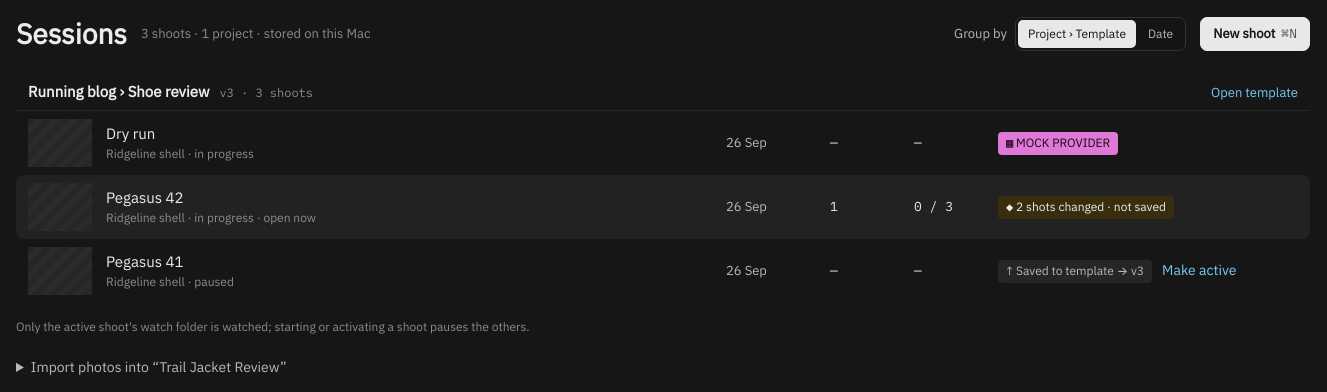
it: SessionsTab › groups shoots by project › template, tags how each shot list relates to it, and opens one
Expected: the element "Running blog › Shoe review" shows "v3 · 3 shoots", [219,85,313,100]
Expected: the element "Running blog › Shoe review" shows "2 shots changed · not saved", [1016,199,1166,214]
Click the button "Open template" at coordinates (1254, 93), box [1211,84,1298,102]
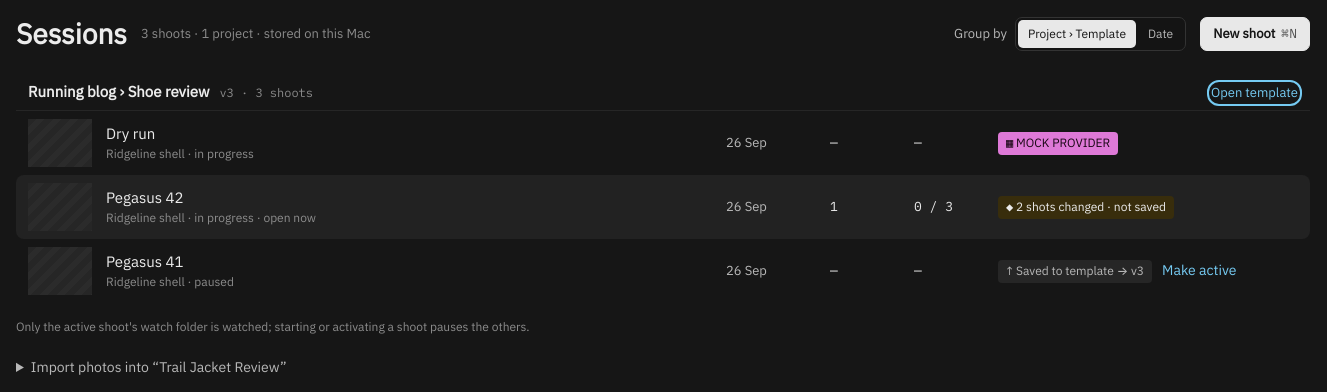
Click the button "Pegasus 41" at coordinates (145, 262), box [106,251,712,272]
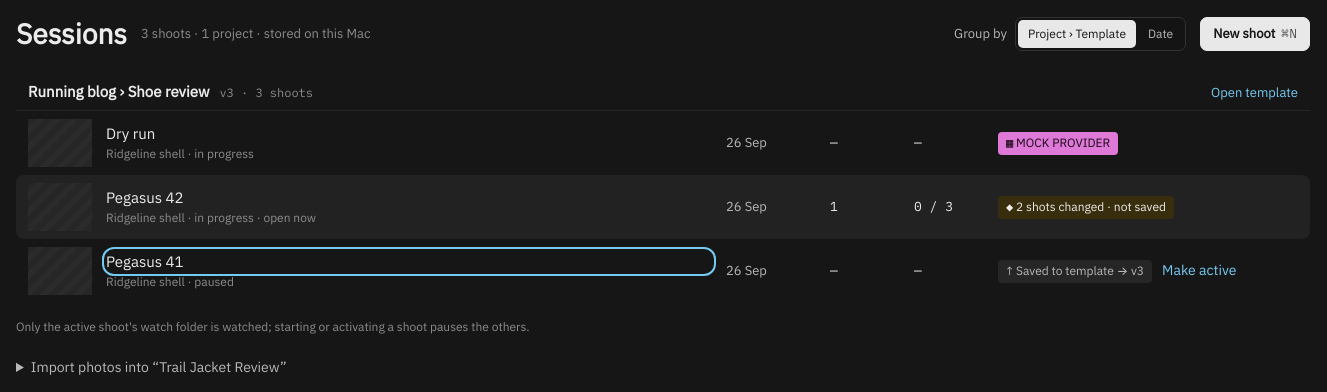
Click the radio button labelled "Date" at coordinates (1161, 34), box [1138,20,1183,48]
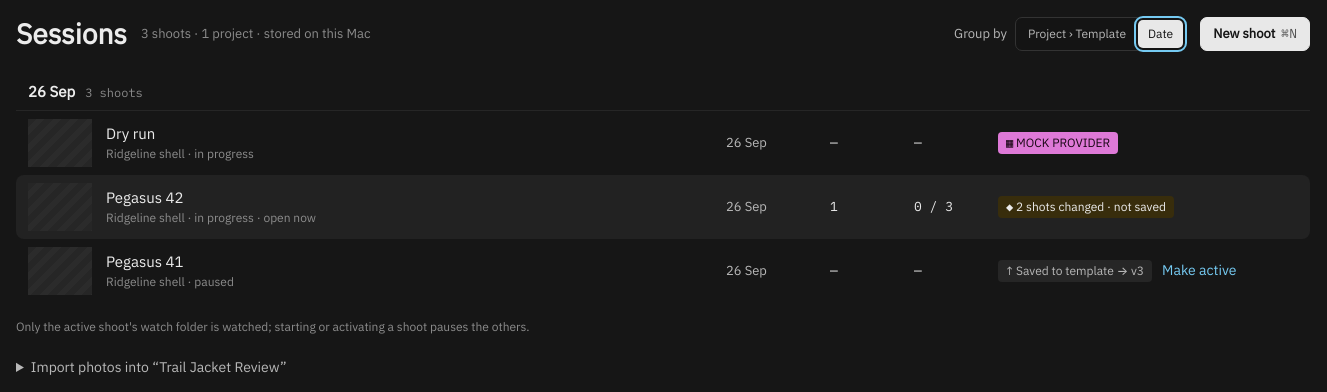
Now the text "Running blog › Shoe review" is gone
